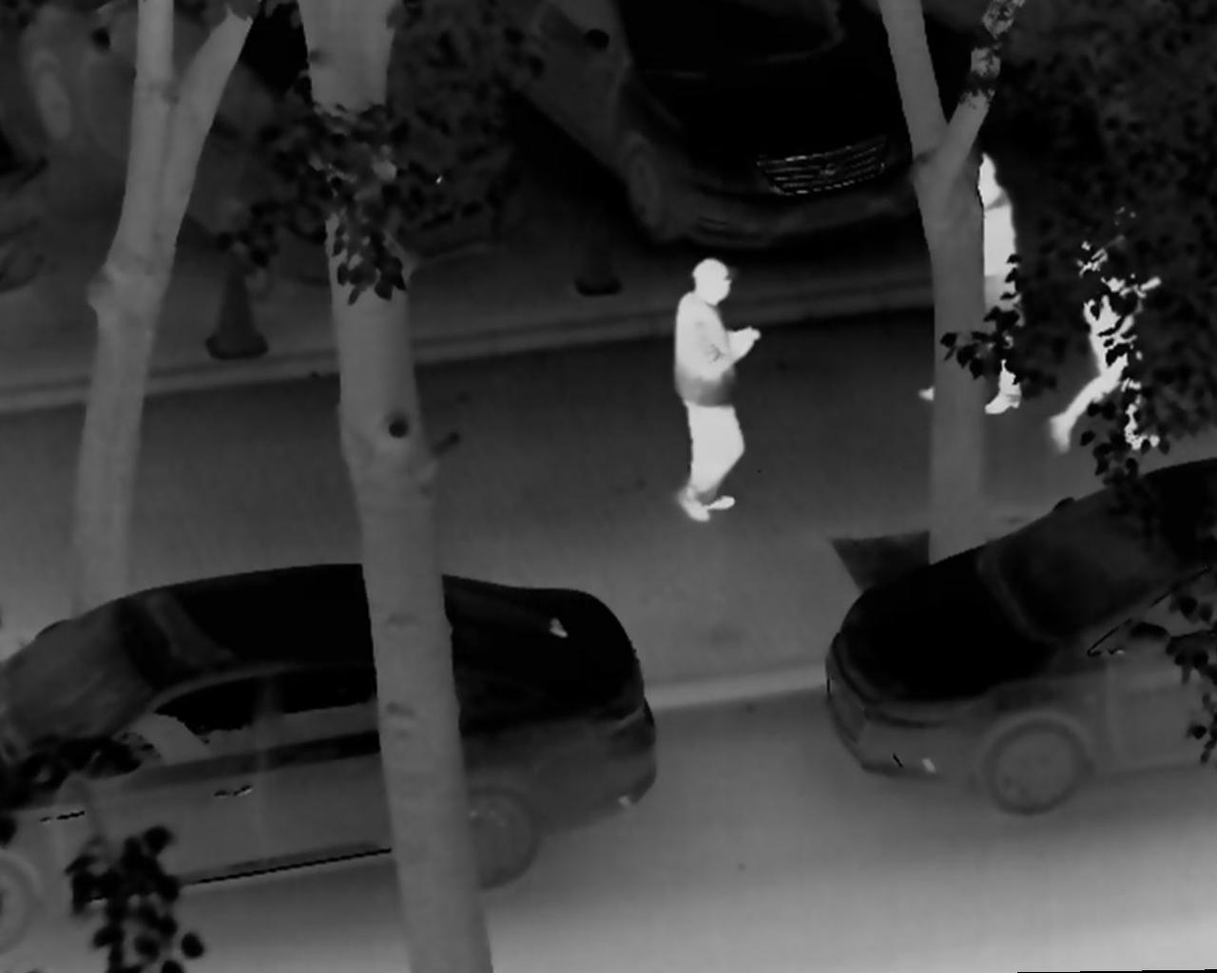person: (1043, 200, 1165, 456), (654, 254, 766, 532), (916, 146, 1029, 418)
